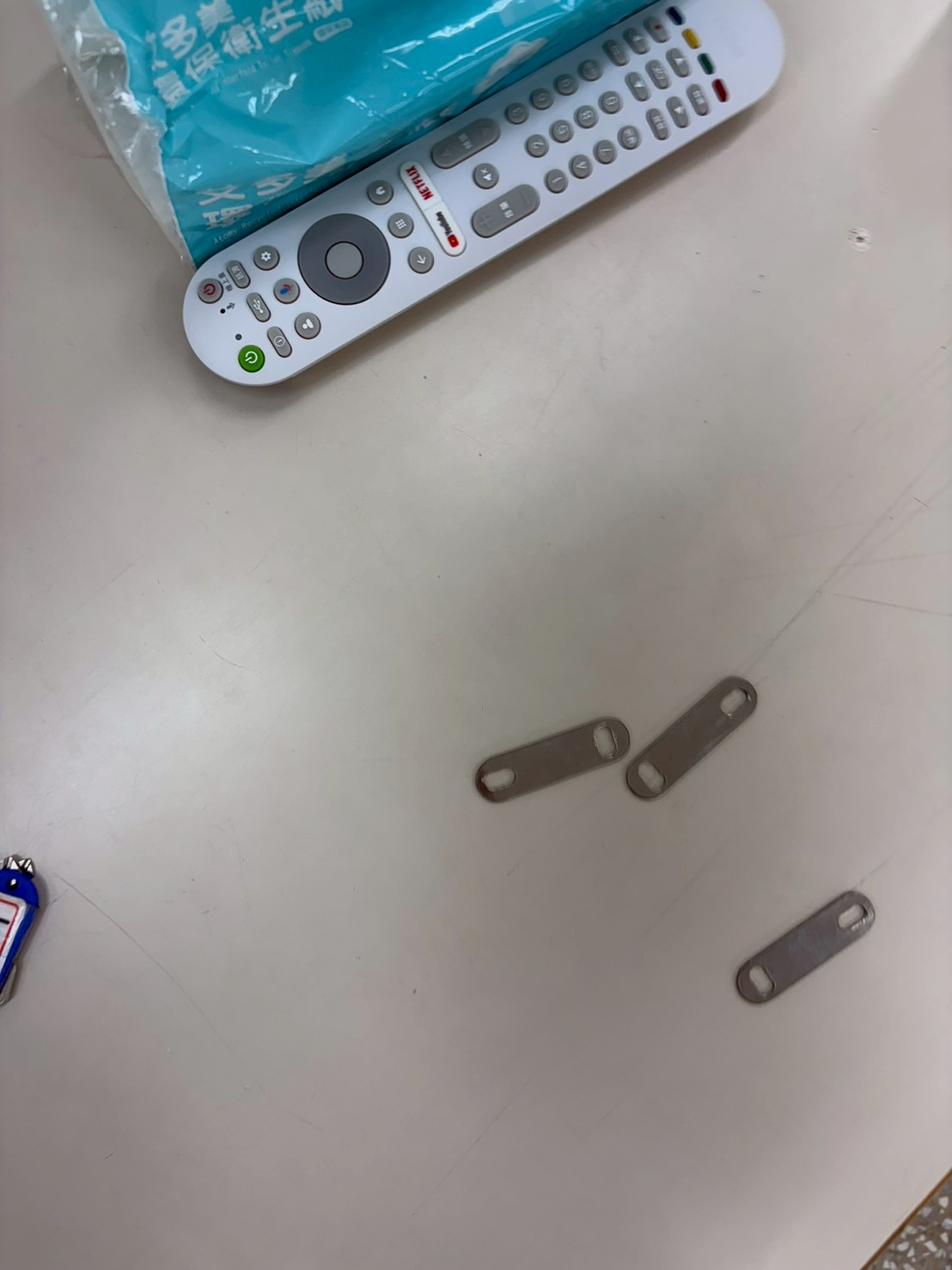Fe: (731, 657, 798, 819), (463, 763, 631, 826), (721, 971, 889, 1032)
